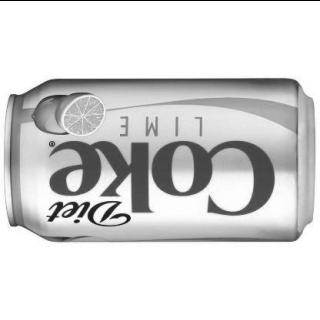alumunium_can: (2, 75, 314, 242)
